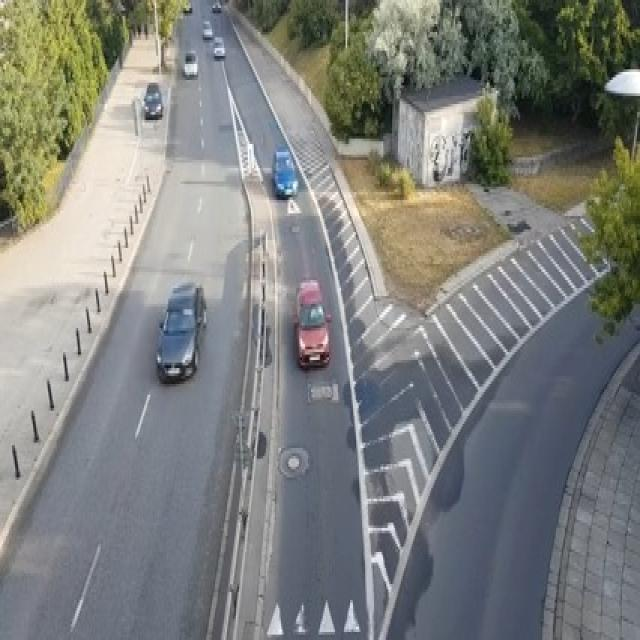bus: (272, 147, 297, 197)
car: (155, 280, 206, 381), (293, 277, 330, 368), (143, 80, 162, 117), (182, 48, 198, 77), (212, 34, 225, 59), (201, 19, 212, 37), (210, 0, 221, 11), (183, 0, 192, 13)
